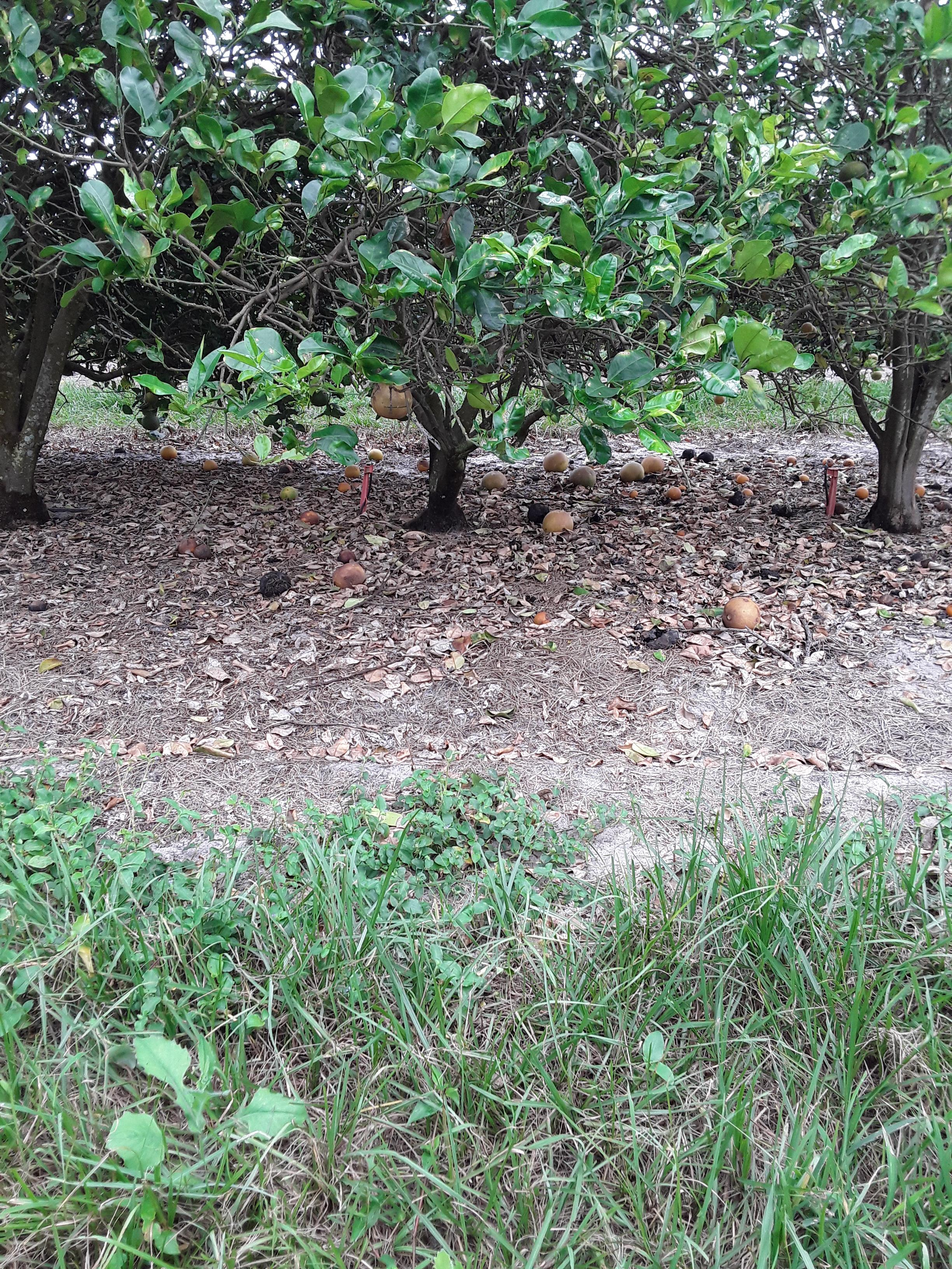fruit_on_ground: (368, 369, 416, 423), (836, 159, 869, 186), (538, 374, 566, 400), (709, 391, 727, 406), (869, 367, 885, 383)
fruit_on_tree: (715, 595, 762, 631), (329, 562, 367, 589), (540, 509, 575, 537), (541, 446, 572, 475), (566, 463, 598, 489), (478, 470, 511, 492), (616, 460, 644, 484), (639, 453, 668, 476), (275, 485, 298, 503), (176, 537, 199, 555), (342, 461, 362, 480), (662, 484, 683, 502), (299, 509, 320, 526), (159, 444, 179, 461), (532, 610, 552, 627), (199, 458, 220, 472), (241, 449, 258, 466), (366, 447, 383, 464), (334, 480, 352, 496), (852, 485, 870, 500), (911, 481, 927, 497), (413, 457, 429, 471), (735, 473, 750, 485), (786, 453, 798, 468), (842, 456, 854, 468), (797, 472, 810, 483), (785, 455, 798, 465), (821, 456, 834, 466), (626, 489, 637, 499)
